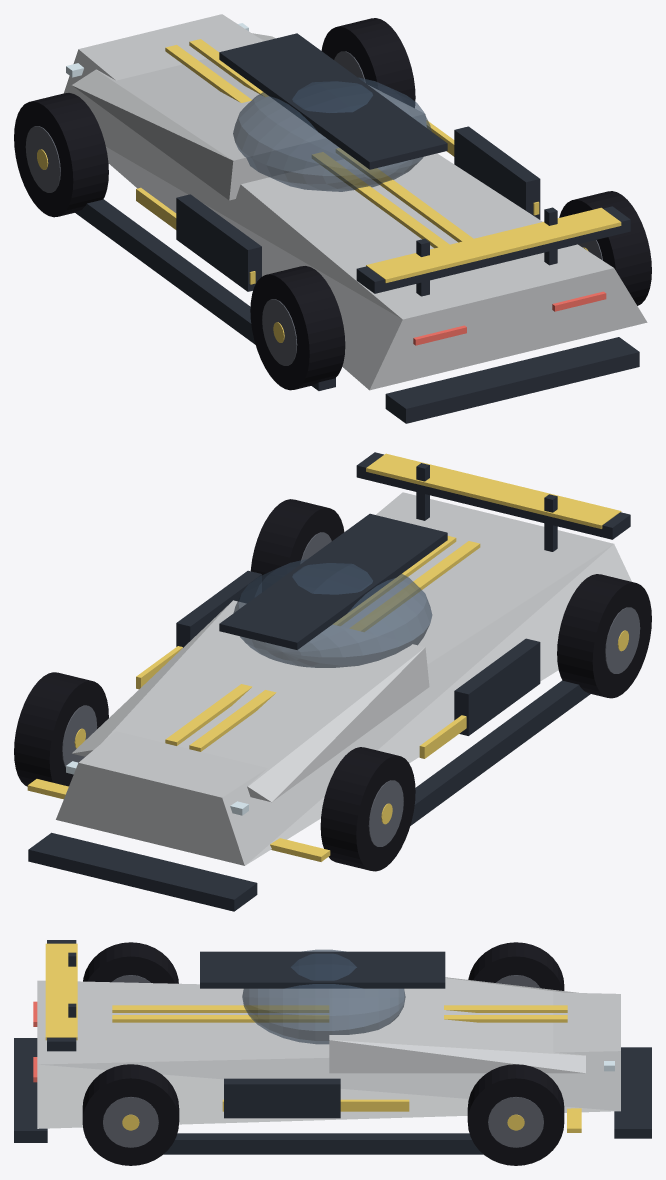
The model's file is lightning_s1.glb.
3 renders of one model, top to bottom at view 1: azimuth 30°, elevation 25°; view 2: azimuth 150°, elevation 25°; view 3: azimuth 270°, elevation 25°, orthographic. The views are drawn at different scales.
Visible parts, largest first — view 1: body_chassis, hood_slope, carbon_roof_spine, dark_cockpit_canopy, rear_diffuser, left_rear_tire, left_front_tire, left_side_skirt, rear_spoiler_accent, left_side_intake, right_front_tire, right_rear_tire (+7 smaller); view 2: body_chassis, hood_slope, carbon_roof_spine, dark_cockpit_canopy, left_front_tire, left_rear_tire, front_splitter, right_front_tire, left_side_skirt, rear_spoiler_accent, left_side_intake, right_rear_tire (+10 smaller); view 3: body_chassis, hood_slope, carbon_roof_spine, dark_cockpit_canopy, right_side_skirt, right_front_tire, right_rear_tire, right_side_intake, front_splitter, left_front_tire, rear_spoiler_accent, left_rear_tire (+9 smaller).
Boxes of the visible parts, x1,y1,x2,y2 form: body_chassis: [64, 14, 647, 390]; hood_slope: [72, 33, 426, 200]; carbon_roof_spine: [219, 33, 447, 169]; dark_cockpit_canopy: [233, 77, 431, 191]; rear_diffuser: [385, 337, 639, 423]; left_rear_tire: [250, 266, 345, 390]; left_front_tire: [14, 93, 108, 217]; left_side_skirt: [75, 199, 335, 390]; rear_spoiler_accent: [366, 207, 621, 282]; left_side_intake: [176, 194, 261, 291]; right_front_tire: [321, 18, 415, 107]; right_rear_tire: [559, 191, 651, 305]; body_chassis: [56, 492, 631, 865]; hood_slope: [72, 600, 429, 802]; carbon_roof_spine: [219, 513, 447, 649]; dark_cockpit_canopy: [233, 559, 432, 667]; left_front_tire: [320, 747, 415, 871]; left_rear_tire: [557, 574, 651, 698]; front_splitter: [28, 832, 257, 911]; right_front_tire: [14, 672, 108, 786]; left_side_skirt: [410, 680, 590, 825]; rear_spoiler_accent: [366, 453, 621, 528]; left_side_intake: [454, 638, 540, 735]; right_rear_tire: [250, 499, 344, 591]; body_chassis: [37, 980, 620, 1128]; hood_slope: [329, 977, 585, 1073]; carbon_roof_spine: [200, 951, 445, 988]; dark_cockpit_canopy: [242, 949, 405, 1044]; right_side_skirt: [163, 1133, 483, 1154]; right_front_tire: [467, 1064, 564, 1165]; right_rear_tire: [82, 1064, 179, 1165]; right_side_intake: [224, 1078, 340, 1118]; front_splitter: [614, 1047, 651, 1138]; left_front_tire: [468, 942, 564, 990]; rear_spoiler_accent: [45, 943, 77, 1040]; left_rear_tire: [83, 942, 178, 983].
Size of the model in its own units: 2.42 by 1.1 by 4.75.
